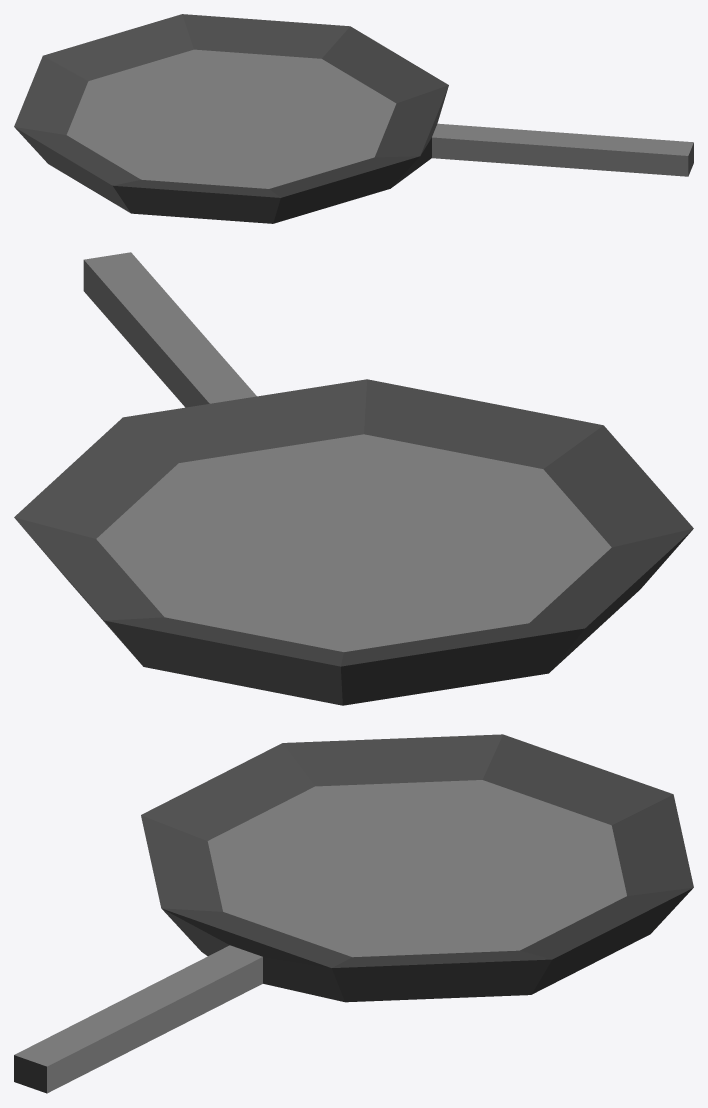
File: Pan.fbx
3 views of the same model, one above another, from view 1: azimuth 30°, elevation 25°; view 2: azimuth 150°, elevation 25°; view 3: azimuth 270°, elevation 25° (orthographic). The views are drawn at different scales.
Parts seen in each view (by area): view 1: Pan; view 2: Pan; view 3: Pan.
Part boxes in pixels (<box>): Pan: <box>14,14,693,223</box>; Pan: <box>14,252,693,705</box>; Pan: <box>14,734,693,1093</box>.
Bounding box in the file's own units: 36.55 × 2.8 × 32.88.
